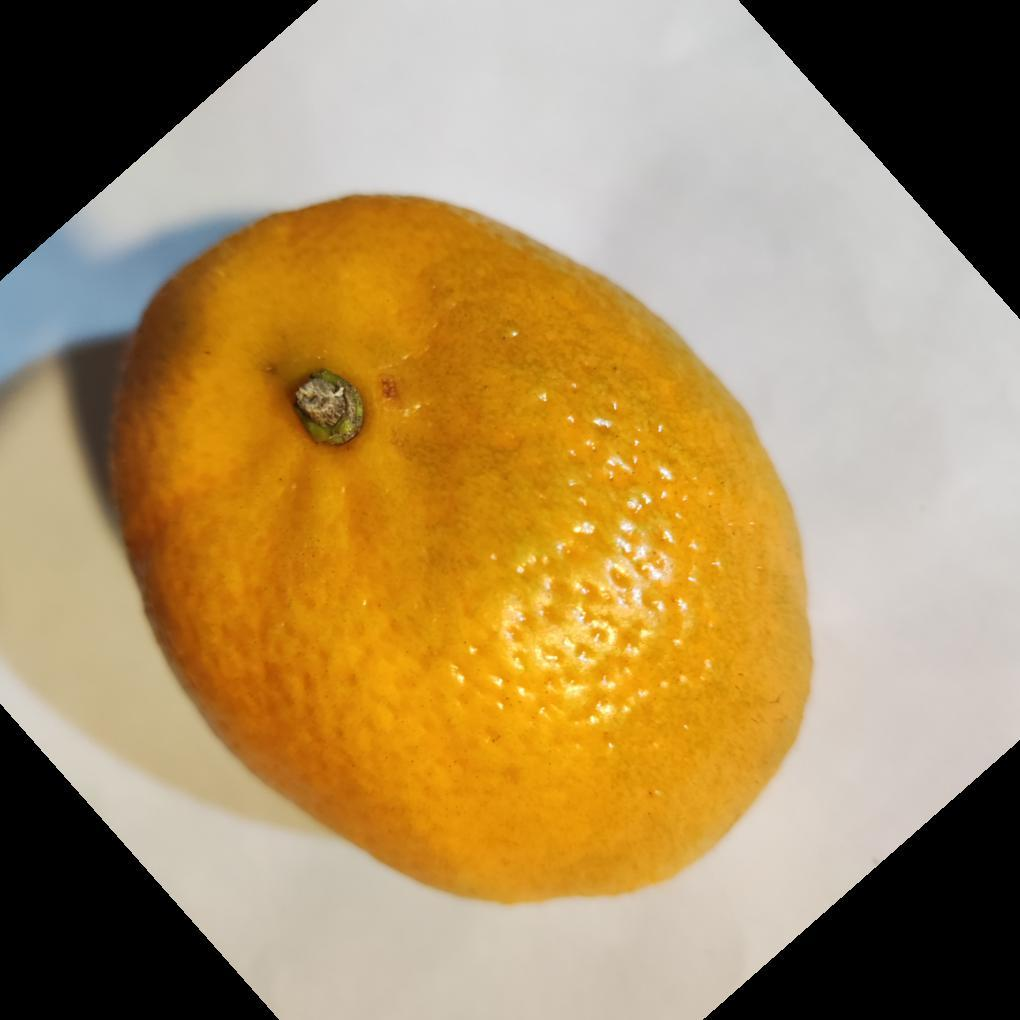FreshGuava: (99, 195, 816, 911)
